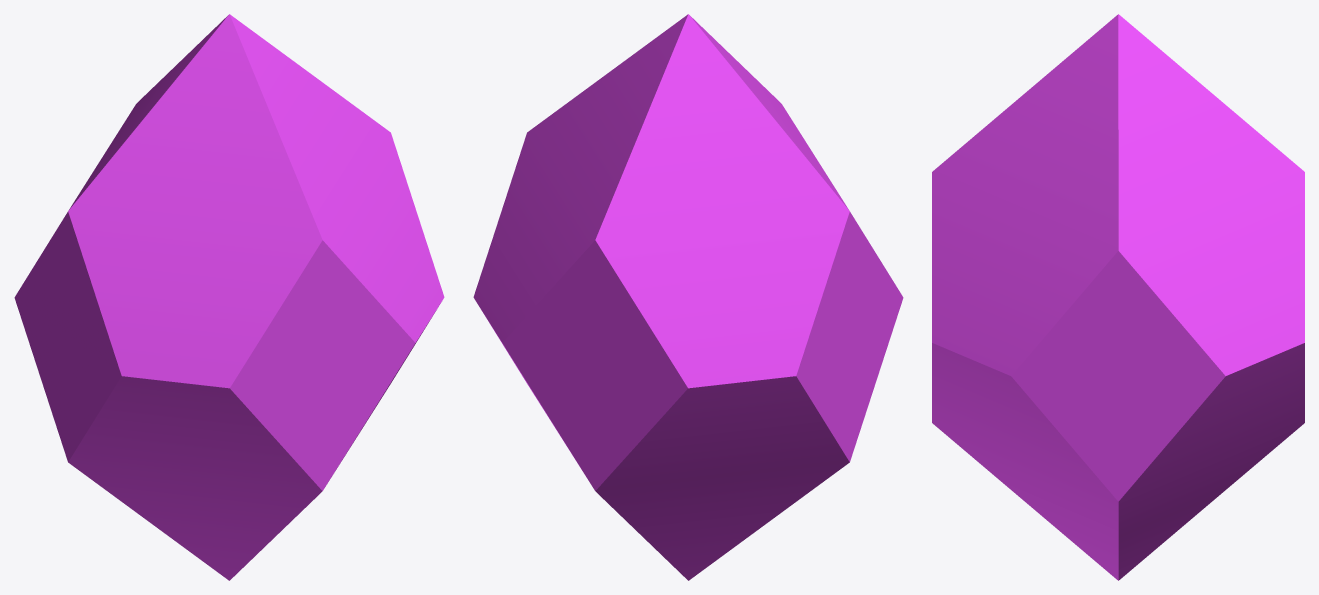
The model's file is Diamant1.fbx.
The picture shows the model from 3 angles, left to right: view 1: azimuth 30°, elevation 25°; view 2: azimuth 150°, elevation 25°; view 3: azimuth 270°, elevation 25°; orthographic projection.
Visible parts, largest first — view 1: Plane; view 2: Plane; view 3: Plane.
Part boxes in pixels (x1,y1,x2,y2): Plane: [14, 14, 444, 580]; Plane: [473, 14, 903, 580]; Plane: [932, 14, 1304, 580].
Bounding box in the file's own units: 213 × 358 × 213.
